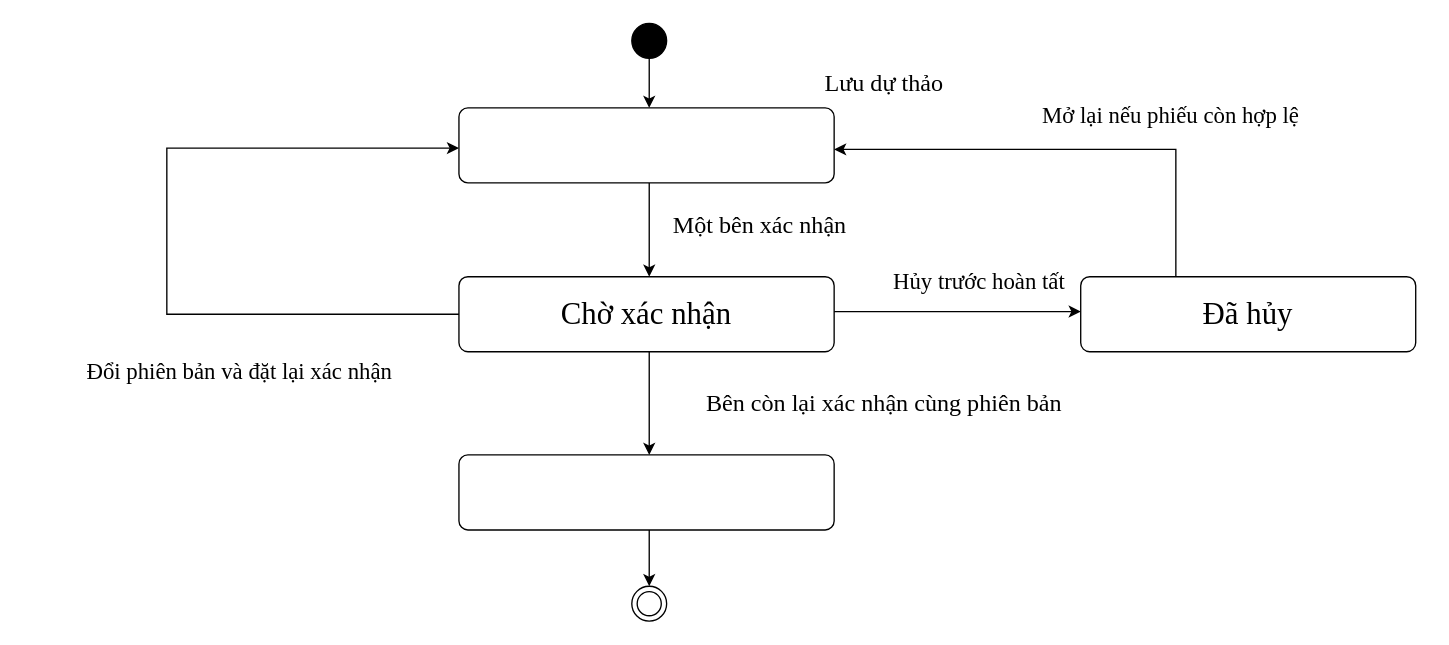
Image size: 1449x645. Some labels were removed from this diagram. Here are the shapes that lost their labels. From the top down, the centre of each, then its label:
the point at 646,145: Chưa xác nhận
the point at 646,492: Hoàn tất
